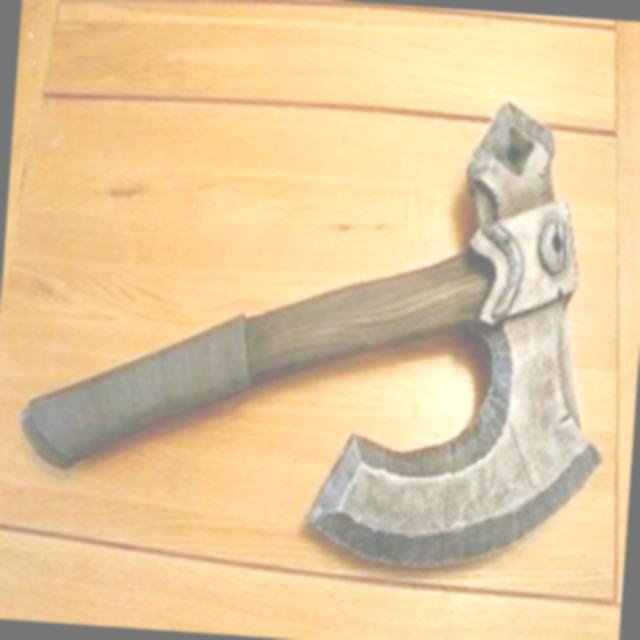ax: (1, 60, 637, 598)
